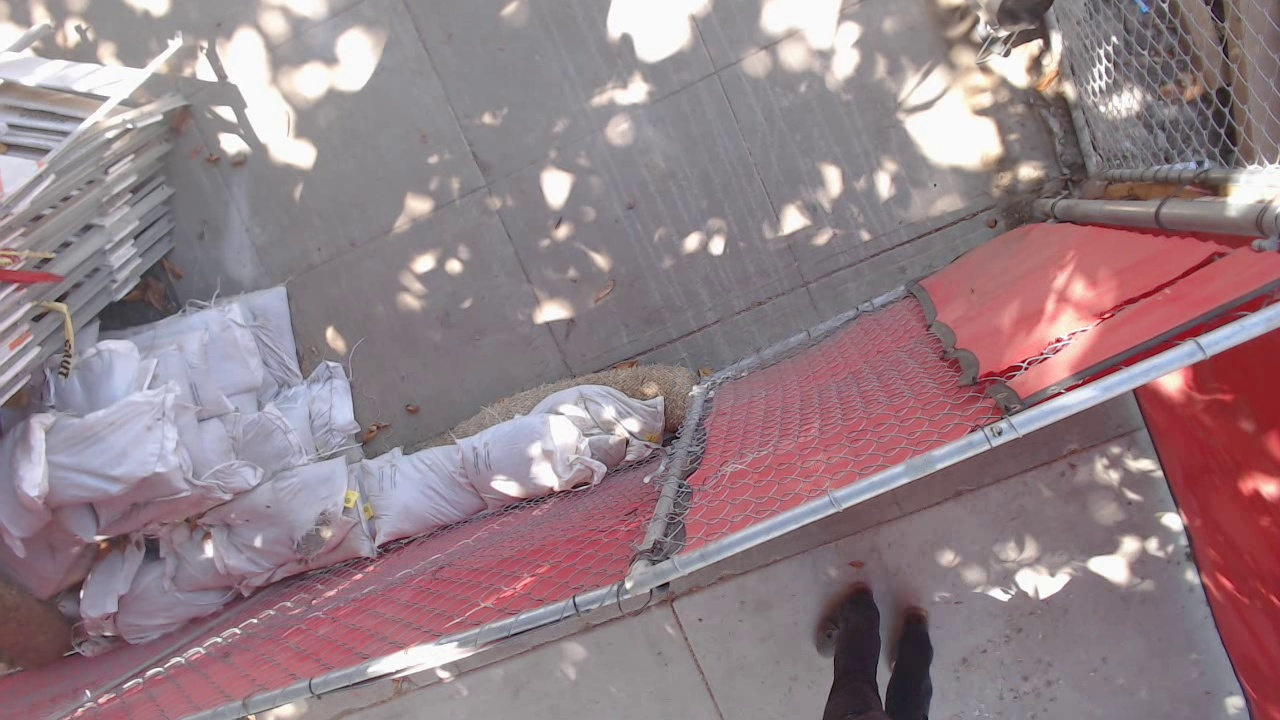person: (814, 585, 943, 720)
